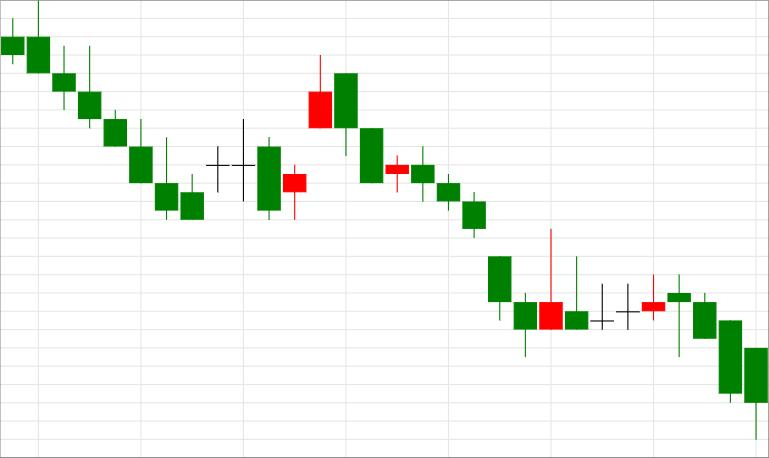inverse_hammer_rise: (335, 73, 563, 356), (2, 2, 178, 219)
